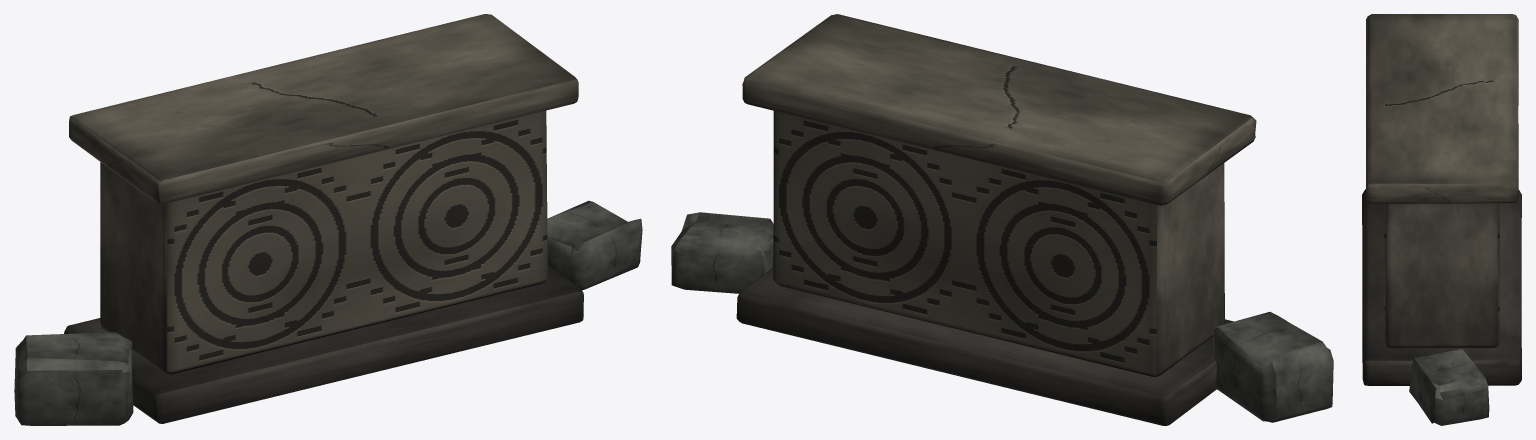
The model's file is THStage_BlockFront_Altar.fbx.
3 views of the same model, side by side, from view 1: azimuth 30°, elevation 25°; view 2: azimuth 150°, elevation 25°; view 3: azimuth 270°, elevation 25° (orthographic). The views are drawn at different scales.
Parts seen in each view (by area): view 1: THStage_BlockFront_Altar; view 2: THStage_BlockFront_Altar; view 3: THStage_BlockFront_Altar.
Part boxes in pixels (x1=…): THStage_BlockFront_Altar: x1=14, y1=14, x2=642, y2=425; THStage_BlockFront_Altar: x1=671, y1=14, x2=1333, y2=425; THStage_BlockFront_Altar: x1=1362, y1=14, x2=1521, y2=425.
Size of the model in its own units: 1.95 by 0.7214 by 0.5129.
